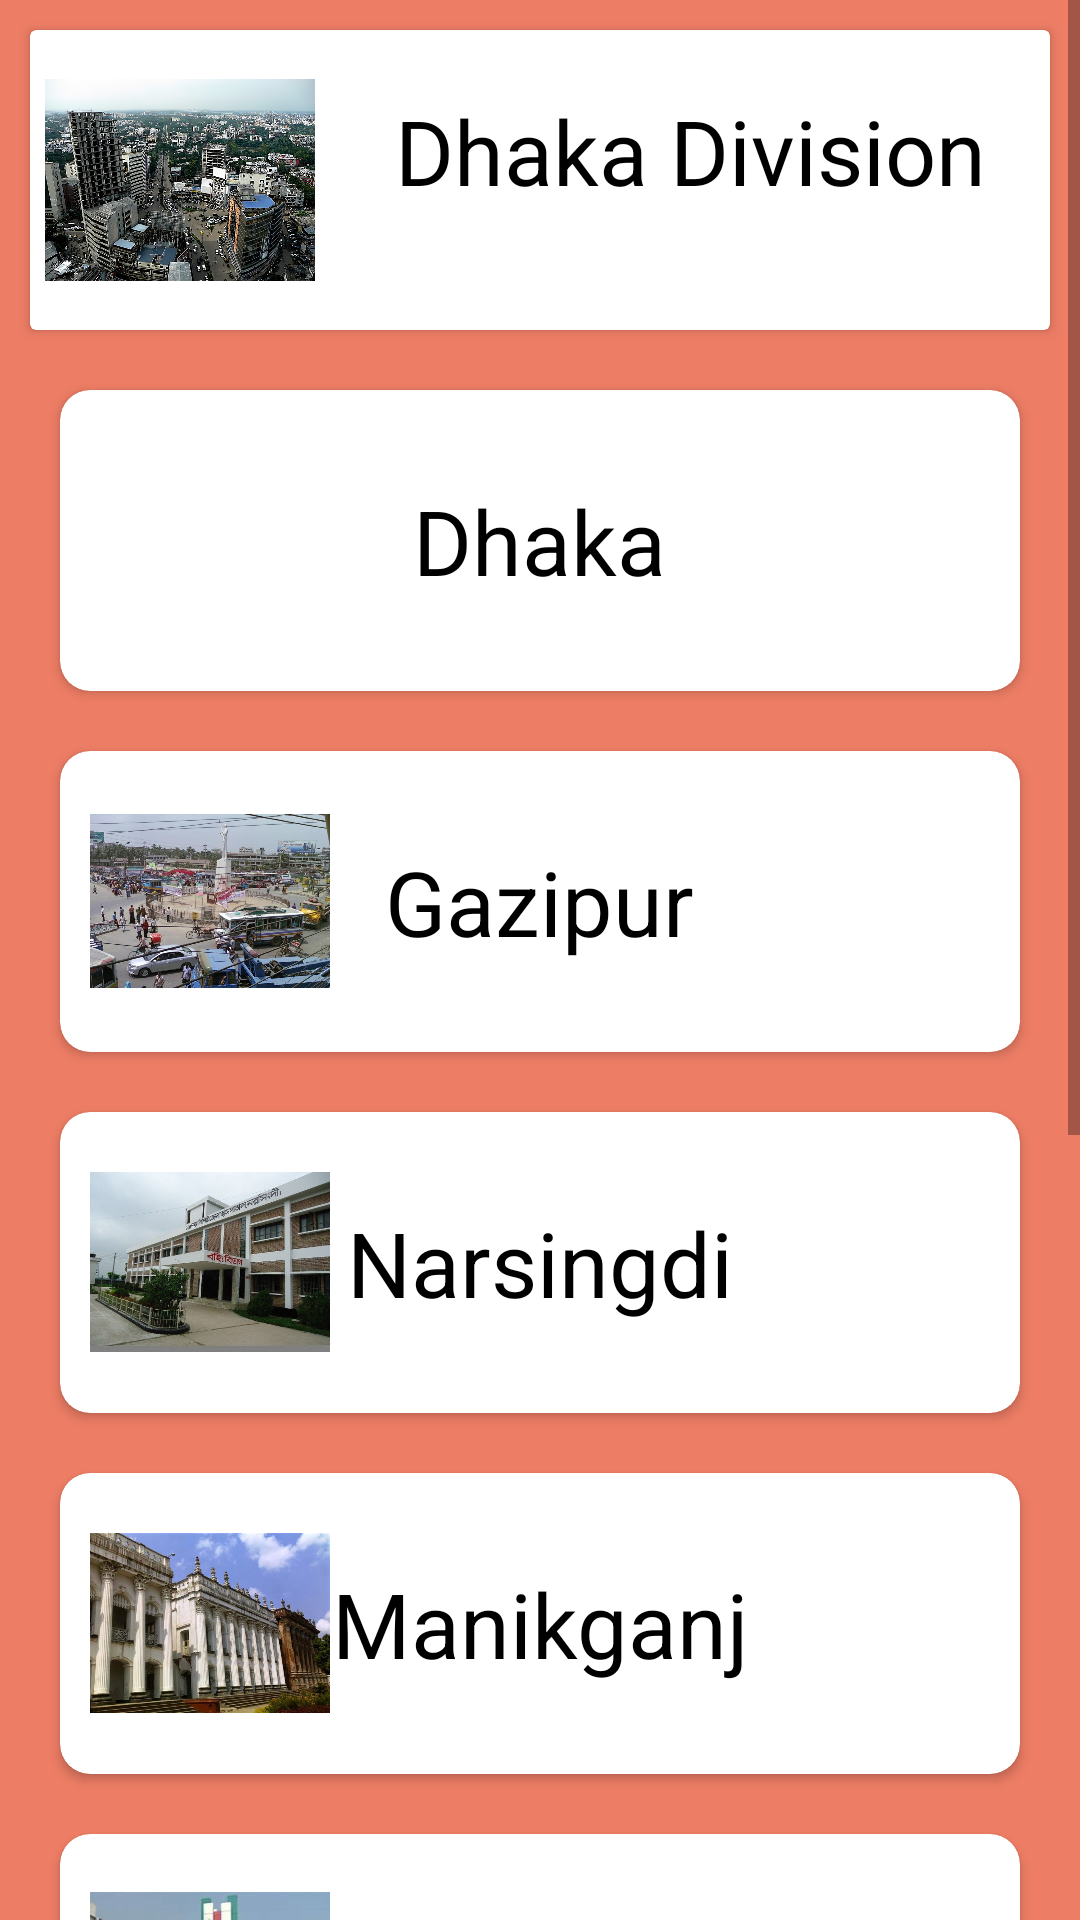

Icons on this 1080x1920 Android screen, each with the point to tap as point (x, y):
narshindicity: point (210, 1262)
